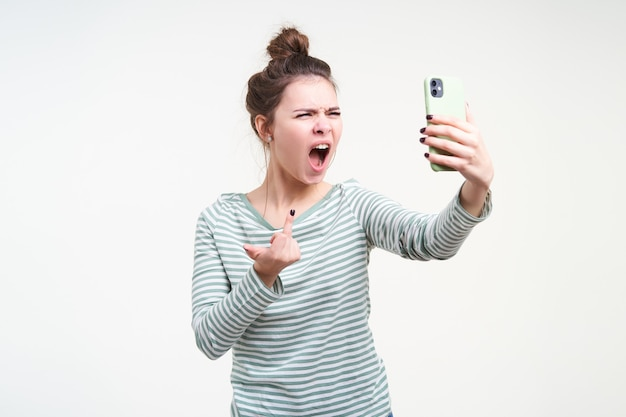insulting_gesture: (242, 206, 303, 290)
